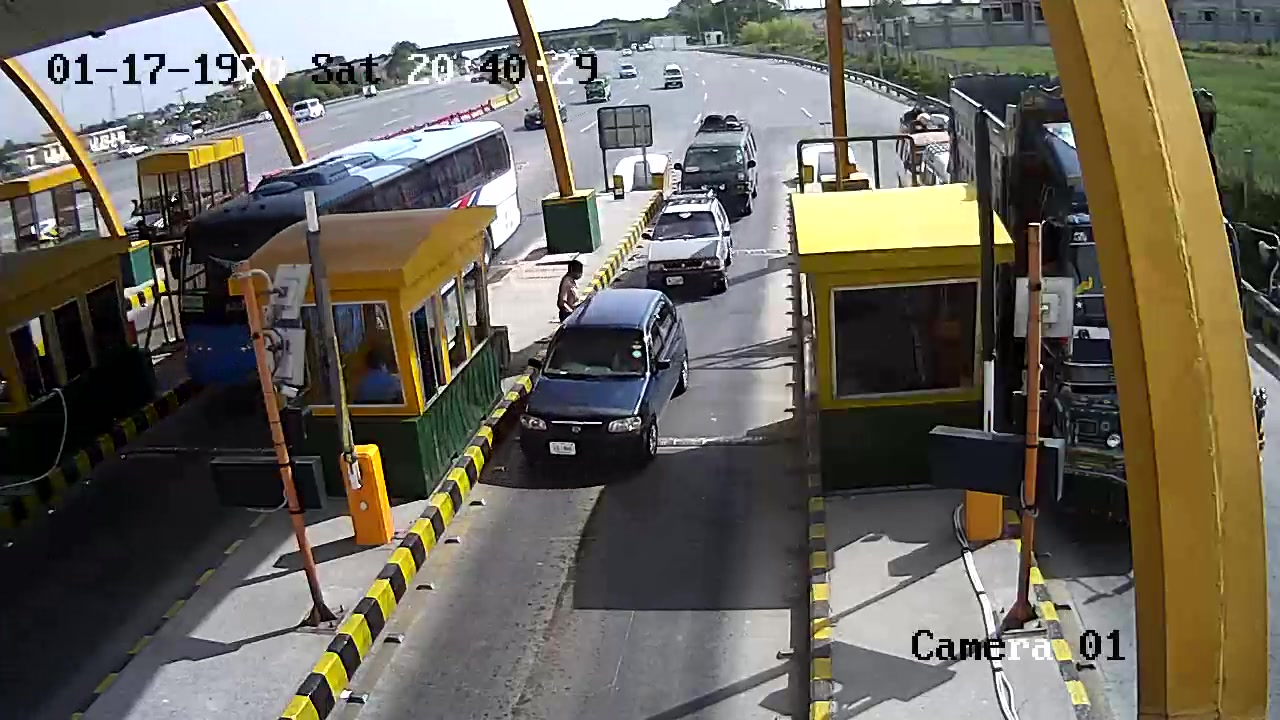F1: (511, 281, 695, 491), (634, 185, 742, 301)
